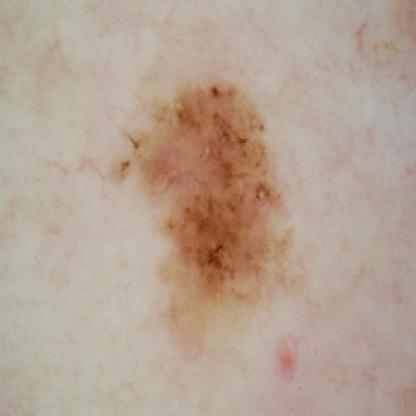malignant: (117, 78, 288, 295)
